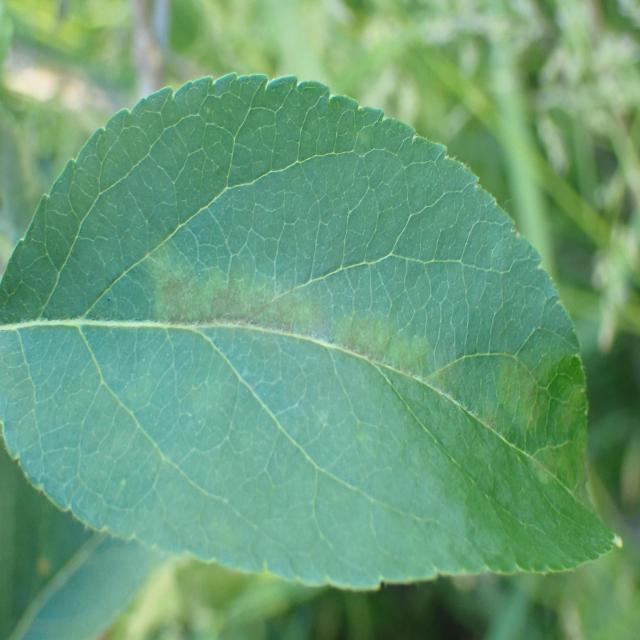scab: (85, 229, 597, 509)
